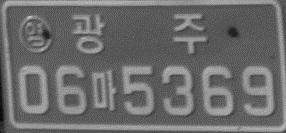0: (18, 64, 50, 114)
3: (161, 65, 195, 117)
5: (120, 64, 155, 116)
6: (200, 64, 234, 117), (55, 65, 87, 115)
9: (241, 65, 275, 117)
광주_D: (71, 13, 206, 56)
마: (90, 70, 117, 111)
영: (17, 13, 52, 54)
